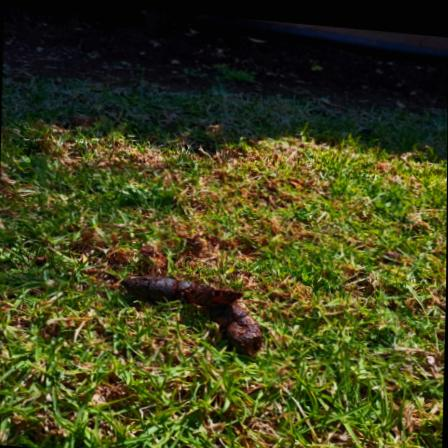dog-poop: (117, 261, 268, 353)
